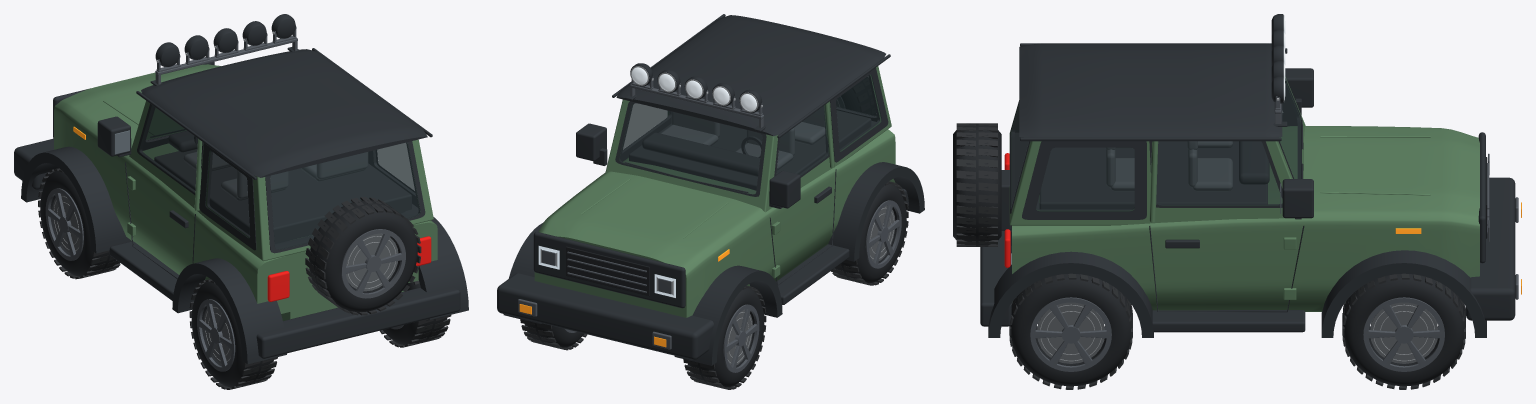
The model's file is jeep.glb.
The picture shows the model from 3 angles, left to right: view 1: azimuth 30°, elevation 25°; view 2: azimuth 150°, elevation 25°; view 3: azimuth 270°, elevation 25°; orthographic projection. The views are drawn at different scales.
Parts seen in each view (by area): view 1: Body geometry, Running wheel geometry.002, Running wheel geometry, Running wheel geometry.003; view 2: Body geometry, Running wheel geometry, Running wheel geometry.002, Running wheel geometry.001; view 3: Body geometry, Running wheel geometry.001, Running wheel geometry.003.
Boxes of the visible parts, x1,y1,x2,y2 form: Body geometry: [14, 14, 468, 364]; Running wheel geometry.002: [189, 279, 277, 389]; Running wheel geometry: [38, 168, 120, 279]; Running wheel geometry.003: [380, 280, 451, 347]; Body geometry: [497, 14, 924, 365]; Running wheel geometry: [683, 285, 766, 389]; Running wheel geometry.002: [831, 181, 908, 285]; Running wheel geometry.001: [520, 319, 587, 350]; Body geometry: [953, 14, 1521, 337]; Running wheel geometry.001: [1342, 273, 1465, 389]; Running wheel geometry.003: [1009, 273, 1132, 389].
Size of the model in its own units: 1.45 by 1.61 by 2.87.
